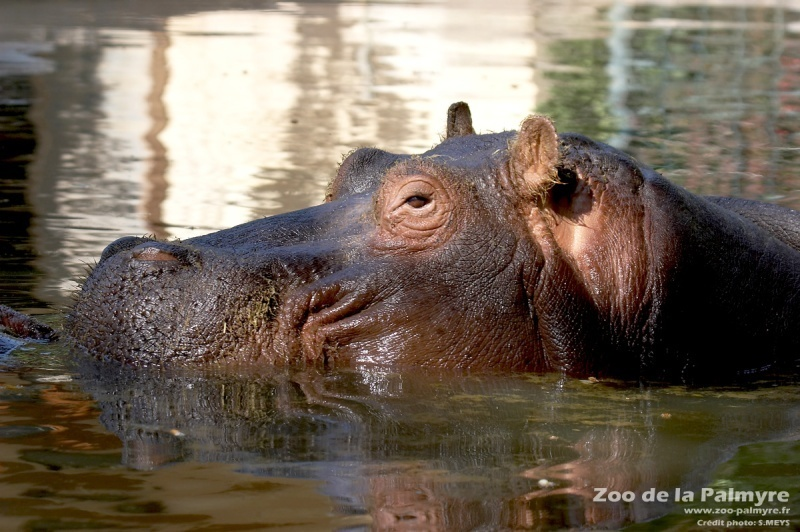hipopotamo: (54, 85, 797, 398)
